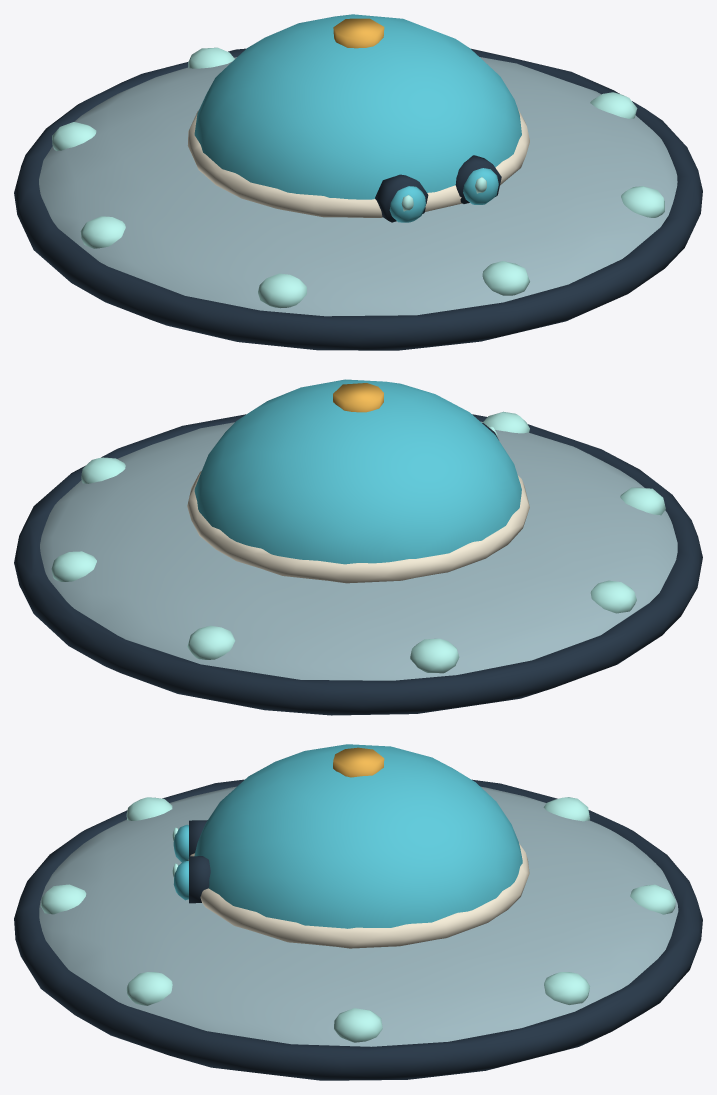
The model's file is ufo_low.glb.
The picture shows the model from 3 angles, top to bottom: view 1: azimuth 30°, elevation 25°; view 2: azimuth 150°, elevation 25°; view 3: azimuth 270°, elevation 25°; orthographic projection.
Parts seen in each view (by area): view 1: BodyMesh, RimSpinMesh; view 2: BodyMesh, RimSpinMesh; view 3: BodyMesh, RimSpinMesh.
Part boxes in pixels (x1,y1,x2,y2): BodyMesh: [14, 14, 702, 350]; RimSpinMesh: [52, 47, 664, 308]; BodyMesh: [14, 379, 702, 715]; RimSpinMesh: [51, 411, 665, 673]; BodyMesh: [14, 744, 702, 1080]; RimSpinMesh: [41, 797, 675, 1042].
Size of the model in its own units: 1.79 by 0.72 by 1.79.
